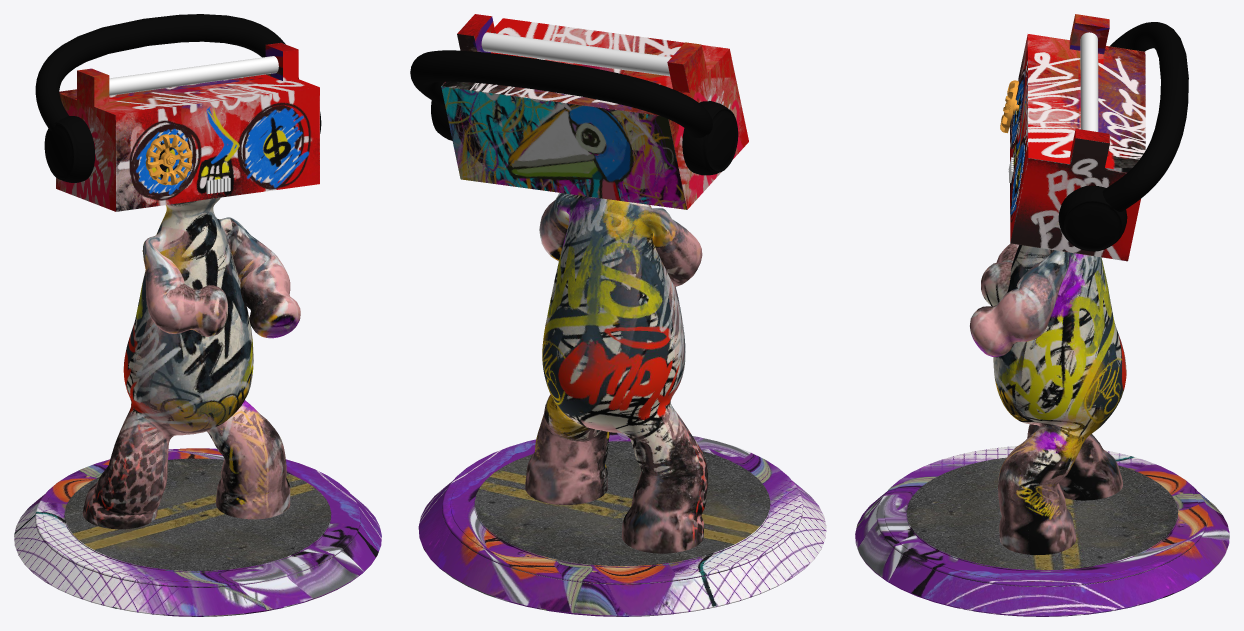
The model's file is 64_sanitized.glb.
The picture shows the model from 3 angles, left to right: view 1: azimuth 30°, elevation 25°; view 2: azimuth 150°, elevation 25°; view 3: azimuth 270°, elevation 25°; orthographic projection. The views are drawn at different scales.
Visible parts, largest first — view 1: BBody; view 2: BBody; view 3: BBody.
Part boxes in pixels (x1,y1,x2,y2): BBody: (14,14,381,616); BBody: (410,14,826,616); BBody: (855,14,1229,616).
Size of the model in its own units: 1.45 by 2.05 by 1.45.
7 materials, 5 textured.
